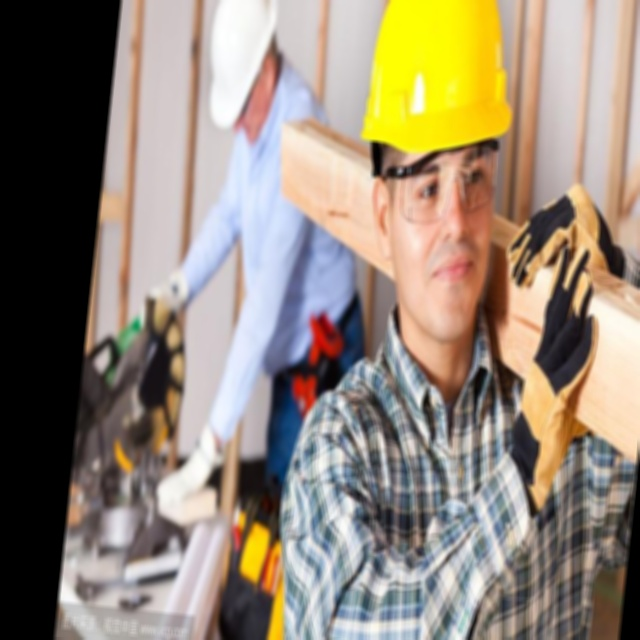Con_Casco: (344, 0, 528, 343)
